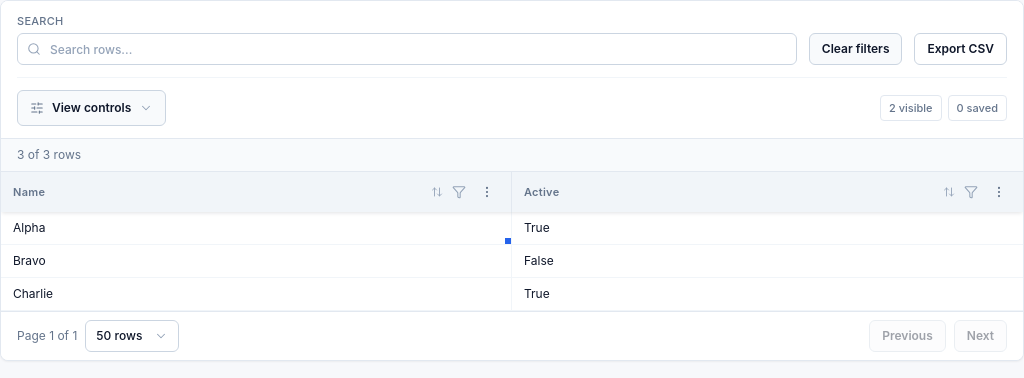
Scenario: DataGrid boolean columns › matches boolean labels in global search
Type "false" into the field labelled "Search" at (407, 49), box [17,33,797,65]
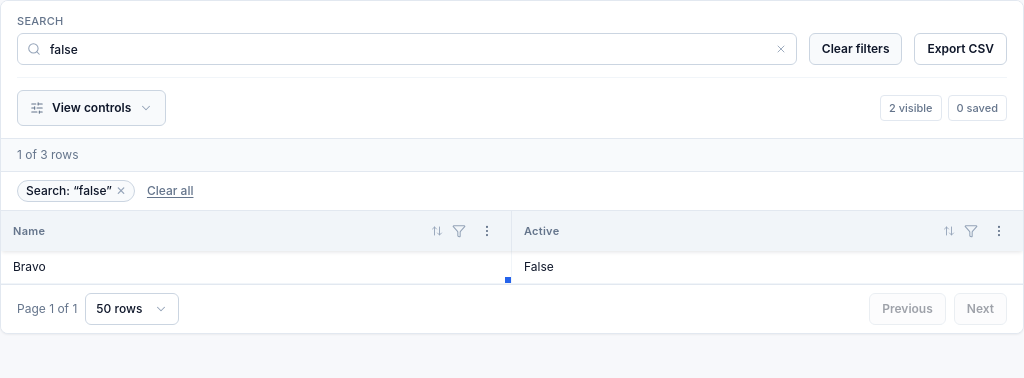
Expected: the text "Bravo" is shown, [1,251,512,284]
Expected: the text "Alpha" is gone
Expected: the text "Charlie" is gone
